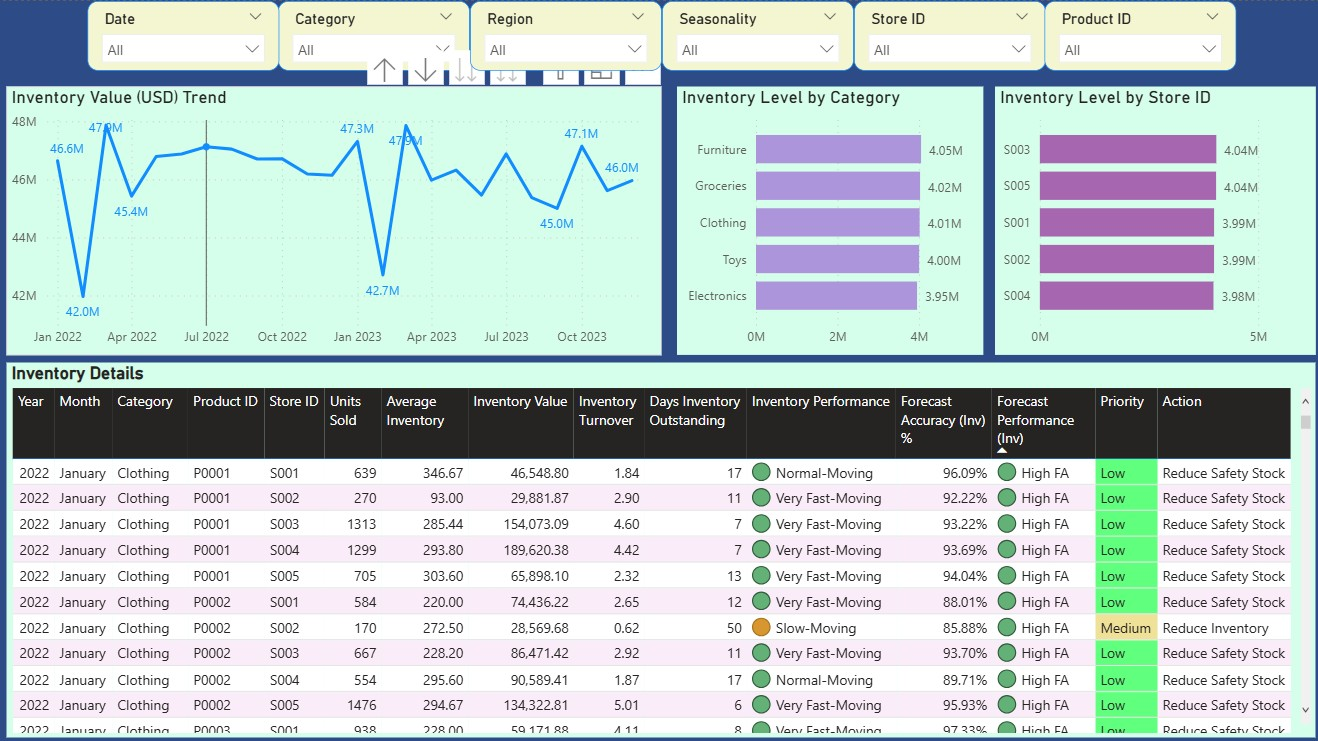

This screenshot's page, from the dashboard's own definition file:
{"tool":"powerbi","page":{"name":"Inventory Health","canvas":[1280,720],"ordinal":2},"visuals":[{"type":"slicer","fields":{"Values":["retail_store_inventory.Category"]},"box":[270.1,0,185.1,67.1],"z":0},{"type":"lineChart","title":"Inventory Value (USD) Trend","fields":{"Category":["retail_store_inventory.Date.Variation.Date Hierarchy.Year","retail_store_inventory.Date.Variation.Date Hierarchy.Month"],"Y":["Sum(retail_store_inventory.Inventory Value)"]},"box":[7,82.5,633,259.6],"z":3000},{"type":"slicer","fields":{"Values":["retail_store_inventory.Region"]},"box":[455.3,0,185.1,67.1],"z":4000},{"type":"slicer","fields":{"Values":["retail_store_inventory.Seasonality"]},"box":[640.4,0,185.1,67.1],"z":5000},{"type":"slicer","fields":{"Values":["retail_store_inventory.Store ID"]},"box":[825.5,0,185.1,67.1],"z":6000},{"type":"tableEx","title":"Inventory Details","fields":{"Values":["retail_store_inventory.Date.Variation.Date Hierarchy.Year","retail_store_inventory.Date.Variation.Date Hierarchy.Month","retail_store_inventory.Category","retail_store_inventory.Product ID","retail_store_inventory.Store ID","Sum(retail_store_inventory.Units Sold)","Measure Table.Average Inventory","Sum(retail_store_inventory.Inventory Value)","Measure Table.Inventory Turnover","Measure Table.Days Inventory Outstanding","Measure Table.Inventory Performance","Measure Table.Forecast Accuracy (Inv) %"]},"box":[7.2,348.8,1264.7,362.2],"z":7000},{"type":"slicer","fields":{"Values":["retail_store_inventory.Date.Variation.Date Hierarchy.Year","retail_store_inventory.Date.Variation.Date Hierarchy.Month"]},"box":[85,0,185.1,67.1],"z":8000},{"type":"slicer","fields":{"Values":["retail_store_inventory.Product ID"]},"box":[1010.7,0,185.1,67.1],"z":9000},{"type":"clusteredBarChart","title":"Inventory Level by Category","fields":{"Category":["retail_store_inventory.Category"],"Y":["Sum(retail_store_inventory.Inventory Level)"]},"box":[654.9,82.2,296.2,259.6],"z":10000},{"type":"barChart","title":"Inventory Level by Store ID","fields":{"Category":["retail_store_inventory.Store ID"],"Y":["Sum(retail_store_inventory.Inventory Level)"]},"box":[962,82.2,310.1,259.6],"z":11000}]}

Visuals, with their boxes in screenshot pixels (x1, y1, x2, y2), scaled from the page's 1280x720 canvas onto the 1318x741 screenshot:
slicer - retail_store_inventory.Category: crop(278, 0, 469, 69)
"Inventory Value (USD) Trend" lineChart: crop(7, 85, 659, 352)
slicer - retail_store_inventory.Region: crop(469, 0, 659, 69)
slicer - retail_store_inventory.Seasonality: crop(659, 0, 850, 69)
slicer - retail_store_inventory.Store ID: crop(850, 0, 1041, 69)
"Inventory Details" tableEx: crop(7, 359, 1310, 732)
slicer - retail_store_inventory.Date.Variation.Date Hierarchy.Year x retail_store_inventory.Date.Variation.Date Hierarchy.Month: crop(88, 0, 278, 69)
slicer - retail_store_inventory.Product ID: crop(1041, 0, 1231, 69)
"Inventory Level by Category" clusteredBarChart: crop(674, 85, 979, 352)
"Inventory Level by Store ID" barChart: crop(991, 85, 1310, 352)
